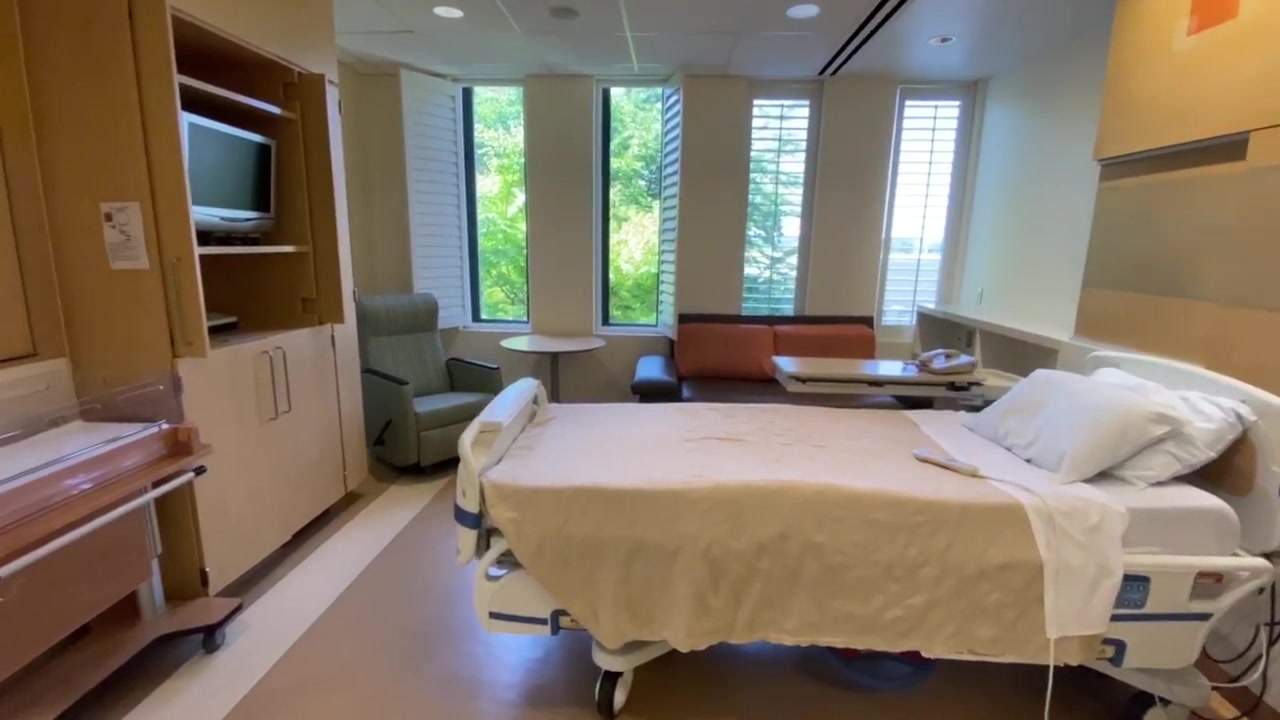TV: (181, 111, 274, 231)
bedrail: (1095, 545, 1274, 667), (472, 537, 590, 636)
foot_board: (455, 377, 548, 567)
handle: (167, 256, 195, 348), (259, 349, 279, 422), (273, 345, 292, 414)
hospital_bed: (447, 348, 1280, 720)
overbed_table: (771, 356, 1024, 401)
sofa: (631, 312, 934, 411), (353, 292, 504, 466)
table: (499, 333, 606, 403)
telephone: (911, 347, 977, 376)
